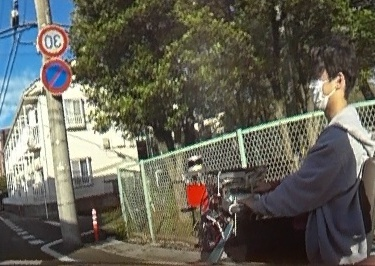person: (244, 36, 366, 266)
